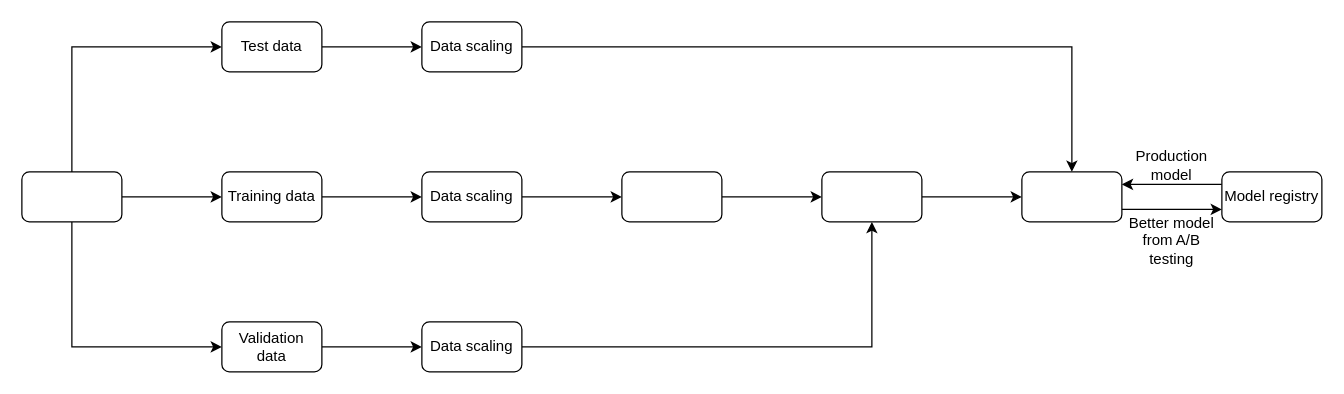
The diagram is 1344 pixels wide and 394 high, and some of its shapes have lost their labels. Here are the shapes that lost their labels. From the top down, the centre of each, then its label:
At [71,196]: "Data split".
At [671,196]: "Model training".
At [871,196]: "Hyper parameter tuning".
At [1071,196]: "Model testing".
